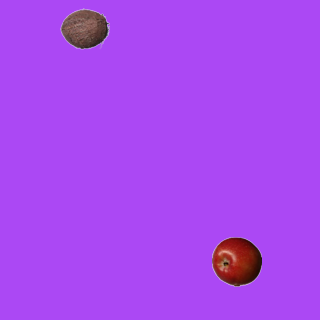Apple Braeburn: (211, 236, 261, 286)
Cocos: (59, 3, 109, 53)
